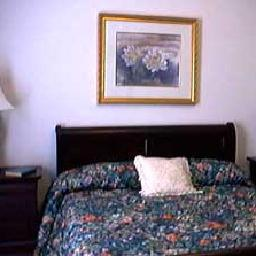Cama: (58, 141, 253, 250)
